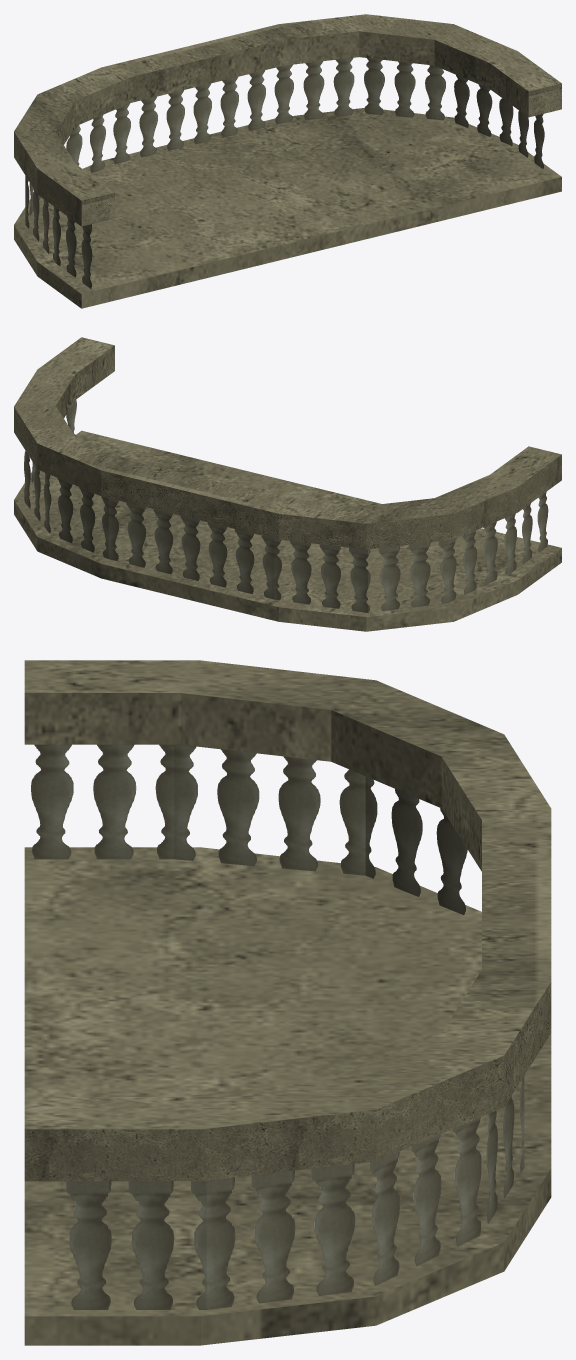
Rendered from castle_inside_scene_lvl_2_balcony.fbx.
The picture shows the model from 3 angles, top to bottom: view 1: azimuth 30°, elevation 25°; view 2: azimuth 150°, elevation 25°; view 3: azimuth 270°, elevation 25°; orthographic projection. The views are drawn at different scales.
Parts seen in each view (by area): view 1: fence; view 2: fence; view 3: fence.
Boxes of the visible parts, x1,y1,x2,y2 form: fence: [14, 14, 561, 308]; fence: [14, 337, 561, 631]; fence: [24, 660, 551, 1345].
Bounding box in the file's own units: 227 × 48.68 × 107.
